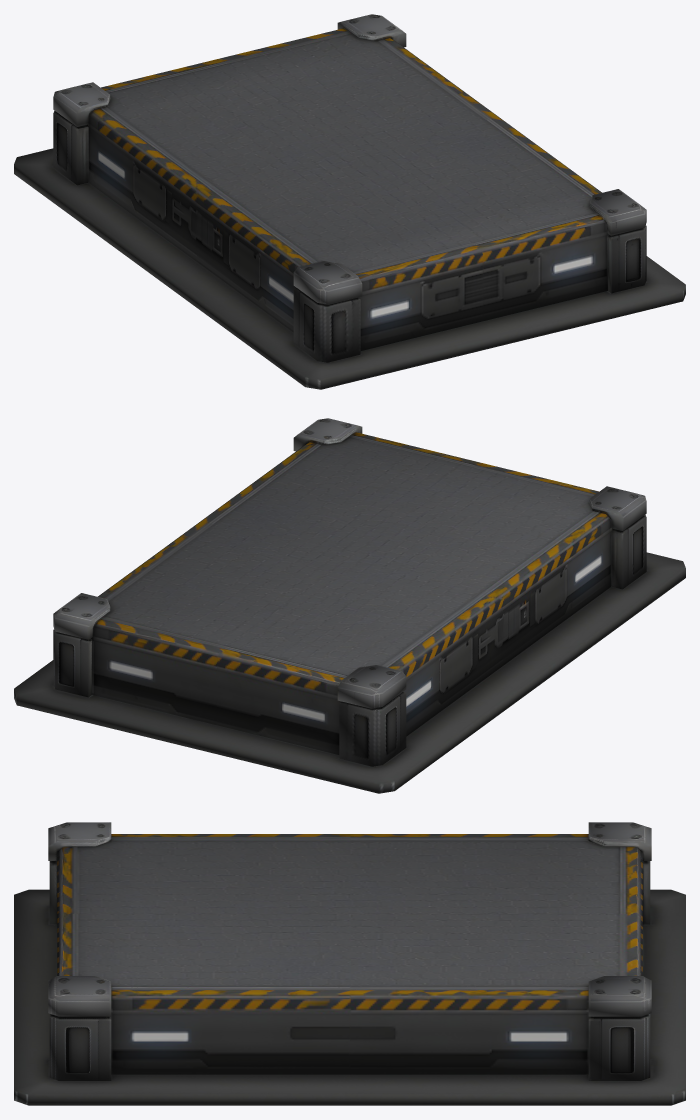
File: LiftPlatform.fbx
3 views of the same model, one above another, from view 1: azimuth 30°, elevation 25°; view 2: azimuth 150°, elevation 25°; view 3: azimuth 270°, elevation 25° (orthographic). The views are drawn at different scales.
Visible parts, largest first — view 1: Platform, Base; view 2: Platform, Base; view 3: Platform, Base.
Part boxes in pixels (bbox=[...]): Platform: bbox=[53, 14, 646, 362]; Base: bbox=[14, 148, 685, 389]; Platform: bbox=[53, 418, 646, 766]; Base: bbox=[14, 552, 685, 793]; Platform: bbox=[48, 822, 651, 1080]; Base: bbox=[14, 889, 685, 1105].
Size of the model in its own units: 0.7207 by 0.1543 by 0.998.
